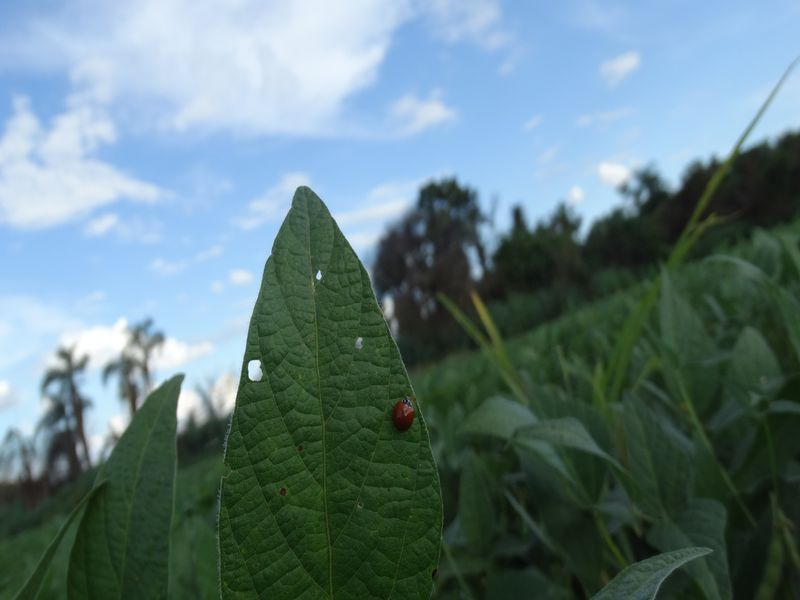Coccinellidae: (377, 386, 430, 438)
